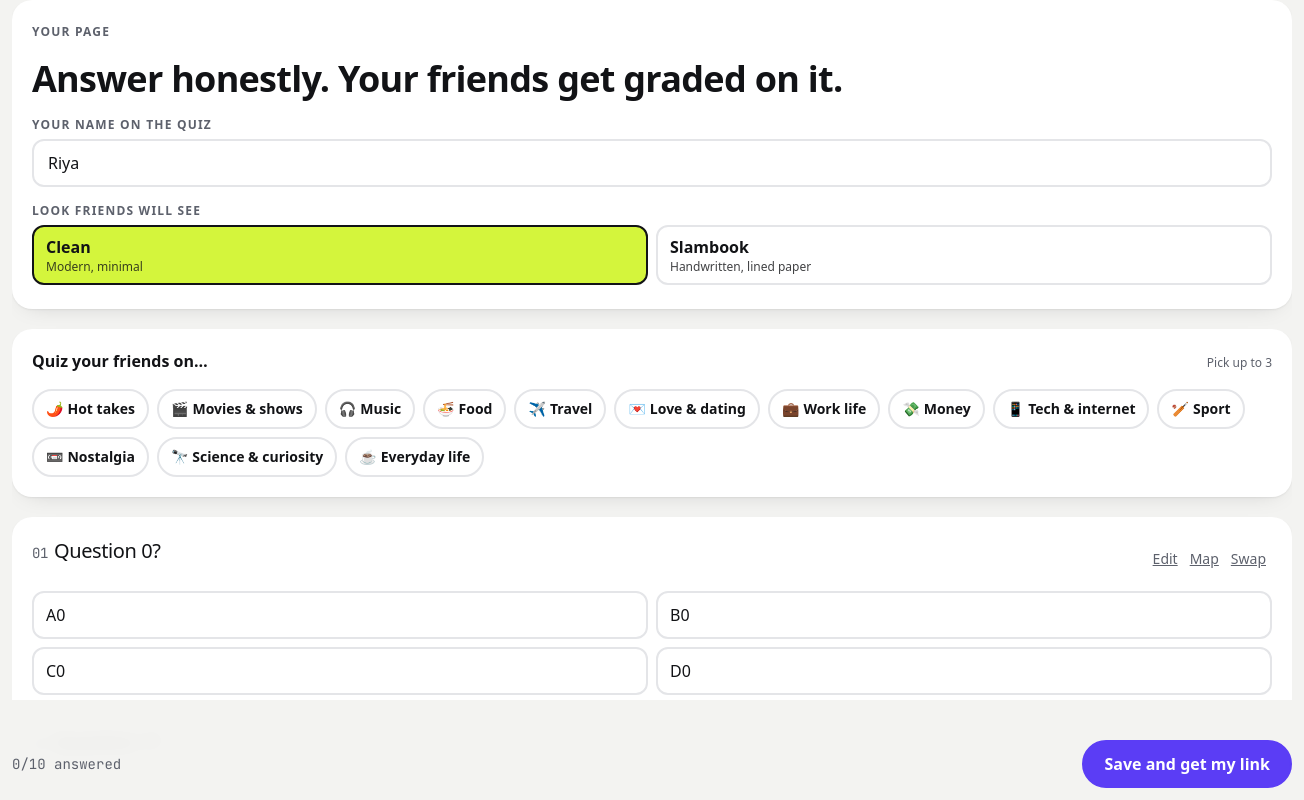
QuizBuilder › swaps a question for one not on the page
Click the button with aria-label "Swap question 1 for a different one" at (1248, 559), box [1225,537,1272,581]
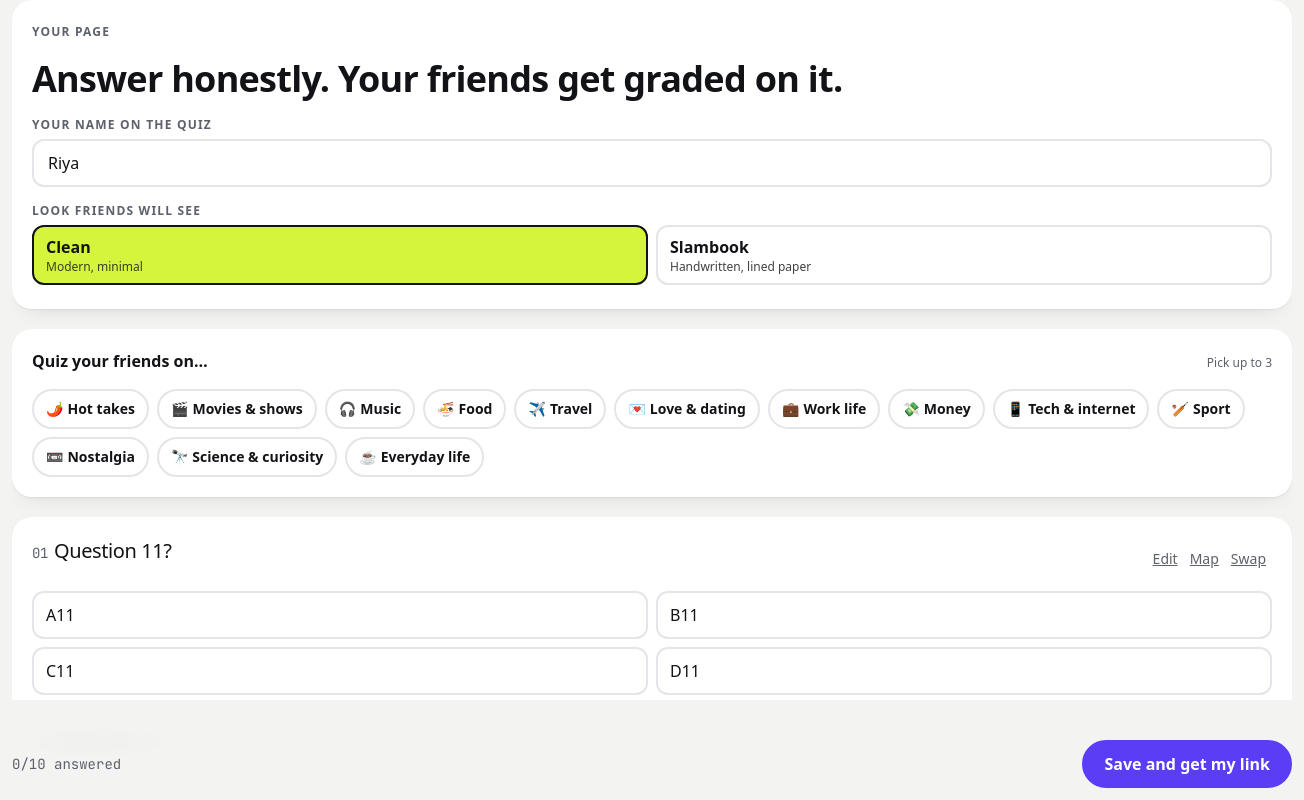
Check: the text "Question 0?" is not shown
Check: the heading "01Question 11?" is shown, box [32,537,172,564]
